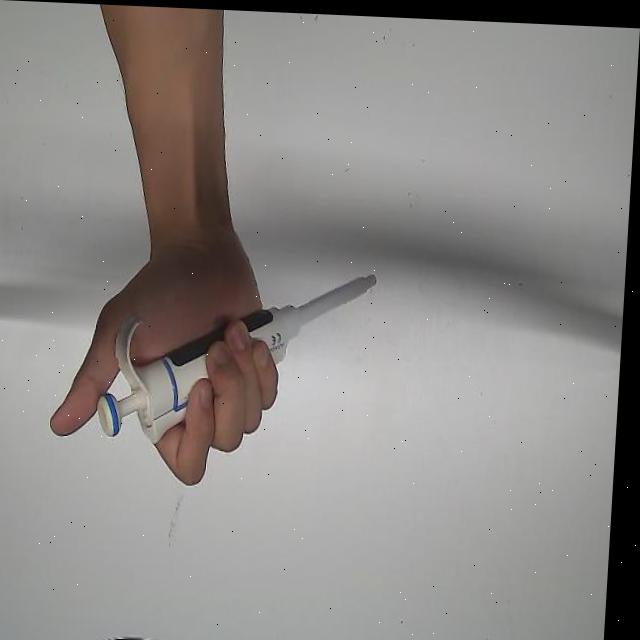Single Channel Pipettor: (96, 255, 383, 455)
